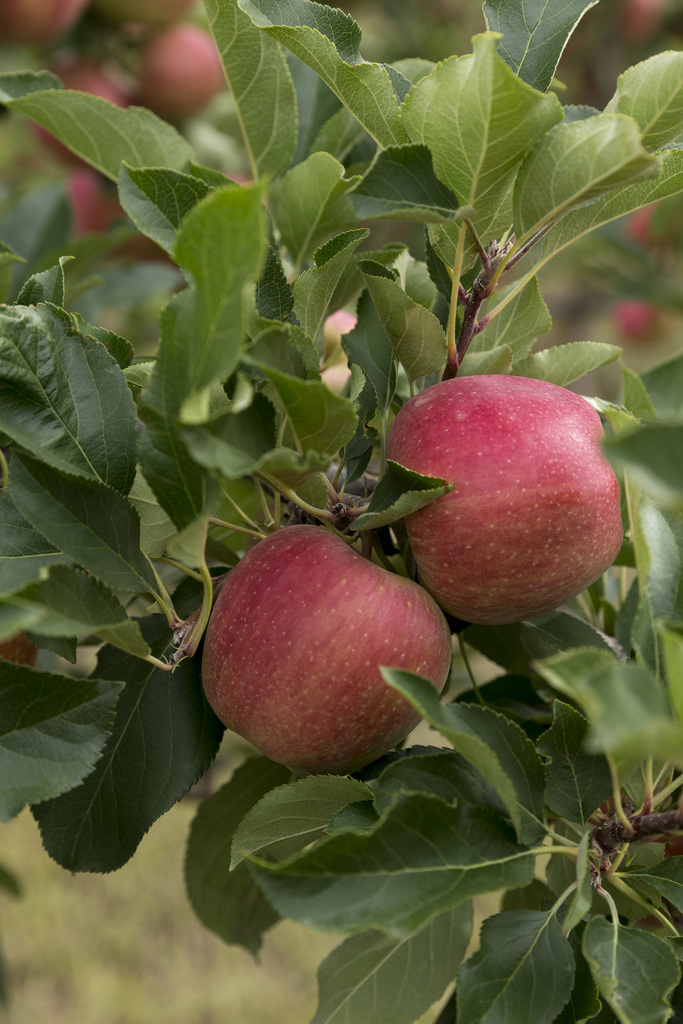Apple: (0, 0, 266, 263), (199, 522, 450, 778), (381, 373, 627, 629)
